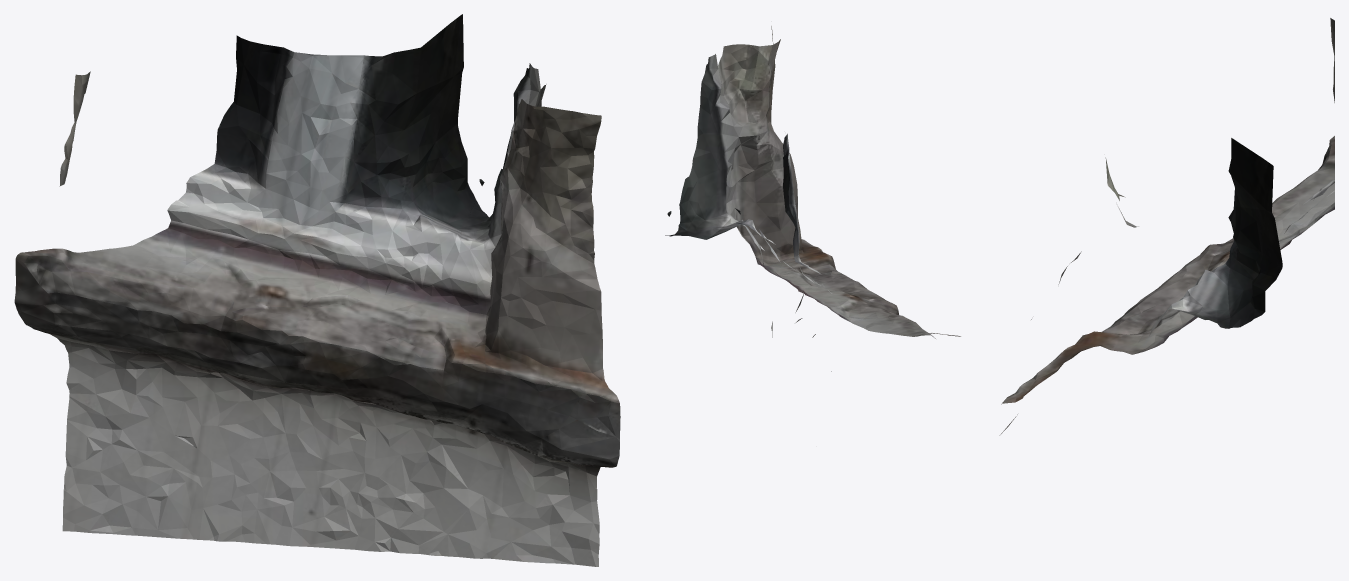
The picture shows the model from 3 angles, left to right: view 1: azimuth 30°, elevation 25°; view 2: azimuth 150°, elevation 25°; view 3: azimuth 270°, elevation 25°; orthographic projection. The views are drawn at different scales.
Bounding box in the file's own units: 0.7999 × 0.8373 × 0.6434.
3 materials, 3 textured.
